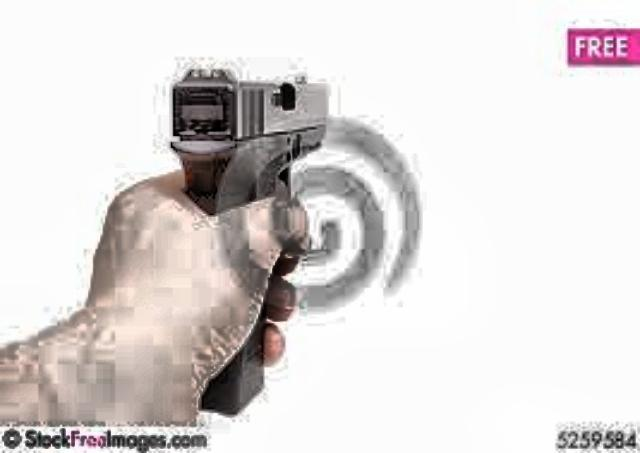pistol: (163, 59, 323, 420)
